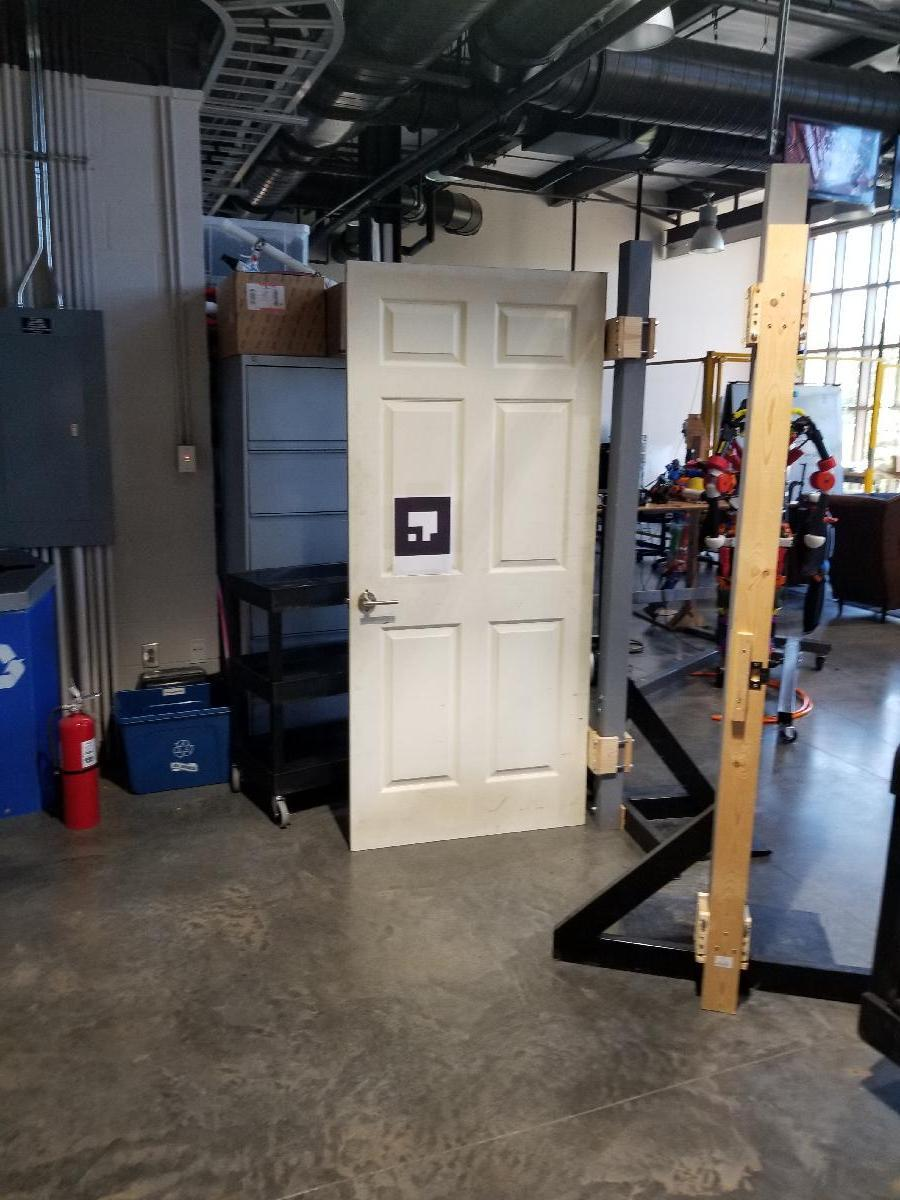door: (347, 266, 607, 844)
handle: (354, 588, 402, 614)
